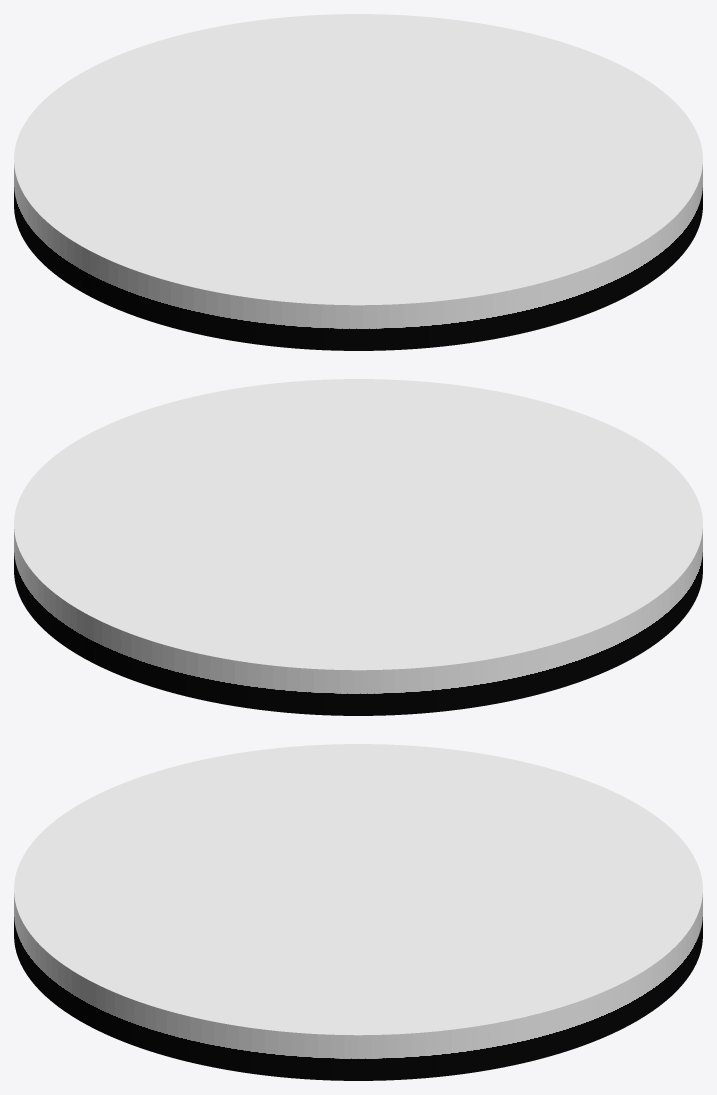
Rendered from chess.fbx.
3 renders of one model, top to bottom at view 1: azimuth 30°, elevation 25°; view 2: azimuth 150°, elevation 25°; view 3: azimuth 270°, elevation 25°, orthographic.
Visible parts, largest first — view 1: Chess; view 2: Chess; view 3: Chess.
Boxes of the visible parts, x1=… form: Chess: x1=14, y1=14, x2=702, y2=350; Chess: x1=14, y1=379, x2=702, y2=715; Chess: x1=14, y1=744, x2=702, y2=1080.
Bounding box in the file's own units: 175 × 12.83 × 175.
1 material, 1 textured.
